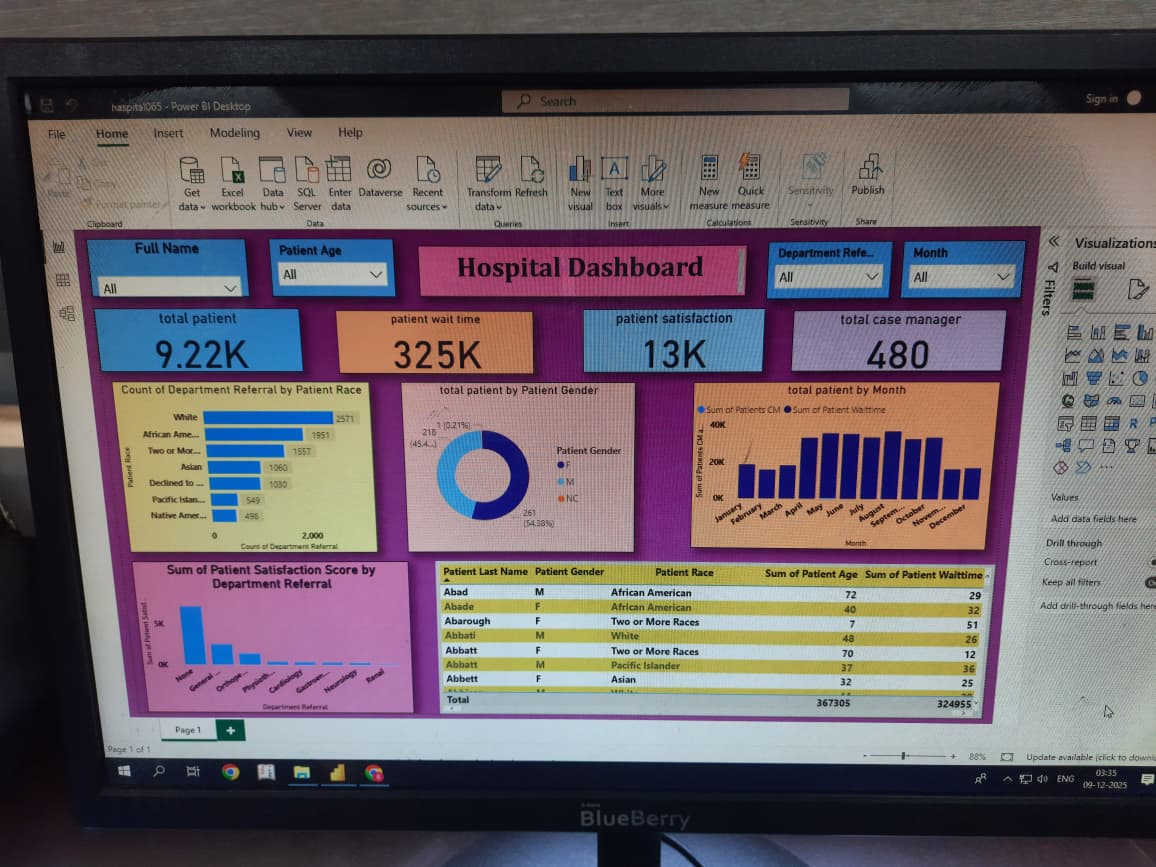

This screenshot's page, from the dashboard's own definition file:
{"tool":"powerbi","page":{"name":"Page 1","canvas":[1280,720],"ordinal":0},"visuals":[{"type":"textbox","box":[473,17.8,452.6,70],"z":0},{"type":"slicer","title":" Full Name","fields":{"Values":["Hospital ER_Data (1).Patient Last Name"]},"box":[53.5,12.5,219.9,78.6],"z":1000},{"type":"slicer","title":"patient age","fields":{"Values":["Hospital ER_Data (1).Patient Age"]},"box":[292.8,12.5,170.9,78.6],"z":2000},{"type":"slicer","fields":{"Values":["Hospital ER_Data (1).Department Referral"]},"box":[935.3,18.2,167.5,77.5],"z":3000},{"type":"card","title":"patient satisfaction","fields":{"Values":["Hospital ER_Data (1).Patient Satisfaction Score"]},"box":[691.5,107.1,252.9,88.9],"z":4000},{"type":"card","title":"total case manager","fields":{"Values":["Hospital ER_Data (1).Patients CM"]},"box":[974.1,110.5,289.4,85.4],"z":5000},{"type":"slicer","fields":{"Values":["Hospital ER_Data (1).Patient Admission Date.Variation.Date Hierarchy.Month"]},"box":[1116.5,18.2,162.9,77.5],"z":7000},{"type":"card","title":"total patient","fields":{"Values":["Hospital ER_Data (1).Patient Id"]},"box":[52.4,107.1,287.1,88.9],"z":8000},{"type":"donutChart","title":"total patient by Patient Gender","fields":{"Category":["Hospital ER_Data (1).Patient Gender"],"Y":["Hospital ER_Data (1).Patients CM"]},"box":[423.3,209.1,335.3,255],"z":9000},{"type":"columnChart","title":"total patient by Month","fields":{"Y":["Hospital ER_Data (1).Patients CM","Hospital ER_Data (1).Patient Waittime"],"Category":["Hospital ER_Data (1).Patient Admission Date.Variation.Date Hierarchy.Month"]},"box":[777.7,218,424.5,246.1],"z":10000},{"type":"card","title":"patient wait time","fields":{"Values":["Hospital ER_Data (1).Patient Waittime"]},"box":[385,107.1,275.4,89.2],"z":12000},{"type":"tableEx","fields":{"Values":["Hospital ER_Data (1).Patient Last Name","Hospital ER_Data (1).Patient Gender","Hospital ER_Data (1).Patient Race","Hospital ER_Data (1).Patient Age","Hospital ER_Data (1).Patient Waittime"]},"box":[462.8,476.8,817.2,243.5],"z":13000},{"type":"clusteredBarChart","fields":{"Y":["Hospital ER_Data (1).Department Referral"],"Category":["Hospital ER_Data (1).Patient Race"]},"box":[14,209.1,364.6,255],"z":13001},{"type":"columnChart","fields":{"Category":["Hospital ER_Data (1).Department Referral"],"Y":["Hospital ER_Data (1).Patient Satisfaction Score"]},"box":[14,476.8,409.2,243],"z":13002}]}

Visuals, with their boxes on the page's 1280x720 design canvas (x1, y1, x2, y2). These are canvas units, not pixel positions in the 1156x867 screenshot, which may show the page scaled, cropped or inside an application window:
textbox: crop(473, 18, 926, 88)
" Full Name" slicer: crop(54, 12, 273, 91)
"patient age" slicer: crop(293, 12, 464, 91)
slicer - Hospital ER_Data (1).Department Referral: crop(935, 18, 1103, 96)
"patient satisfaction" card: crop(692, 107, 944, 196)
"total case manager" card: crop(974, 110, 1264, 196)
slicer - Hospital ER_Data (1).Patient Admission Date.Variation.Date Hierarchy.Month: crop(1116, 18, 1279, 96)
"total patient" card: crop(52, 107, 340, 196)
"total patient by Patient Gender" donutChart: crop(423, 209, 759, 464)
"total patient by Month" columnChart: crop(778, 218, 1202, 464)
"patient wait time" card: crop(385, 107, 660, 196)
tableEx - Hospital ER_Data (1).Patient Last Name x Hospital ER_Data (1).Patient Gender: crop(463, 477, 1280, 720)
clusteredBarChart - Hospital ER_Data (1).Department Referral x Hospital ER_Data (1).Patient Race: crop(14, 209, 379, 464)
columnChart - Hospital ER_Data (1).Department Referral x Hospital ER_Data (1).Patient Satisfaction Score: crop(14, 477, 423, 720)
